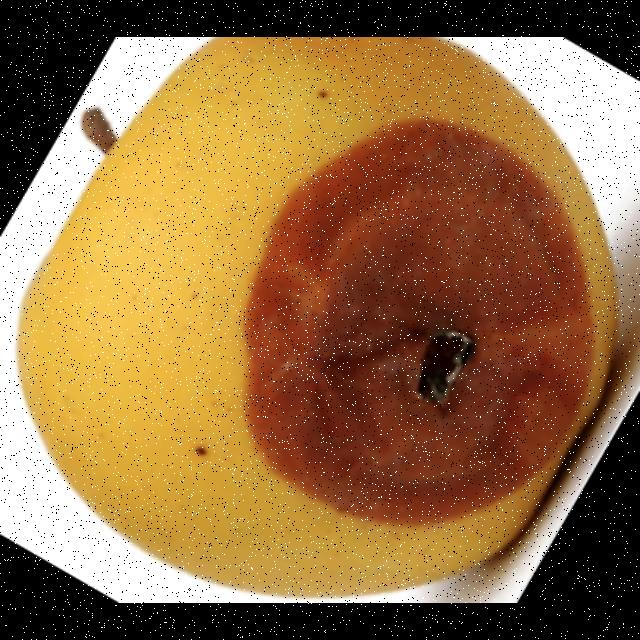Apel Tidak Segar: (21, 37, 640, 603)
